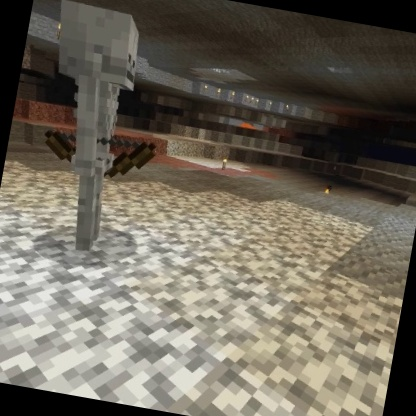skeleton: (13, 0, 185, 267)
